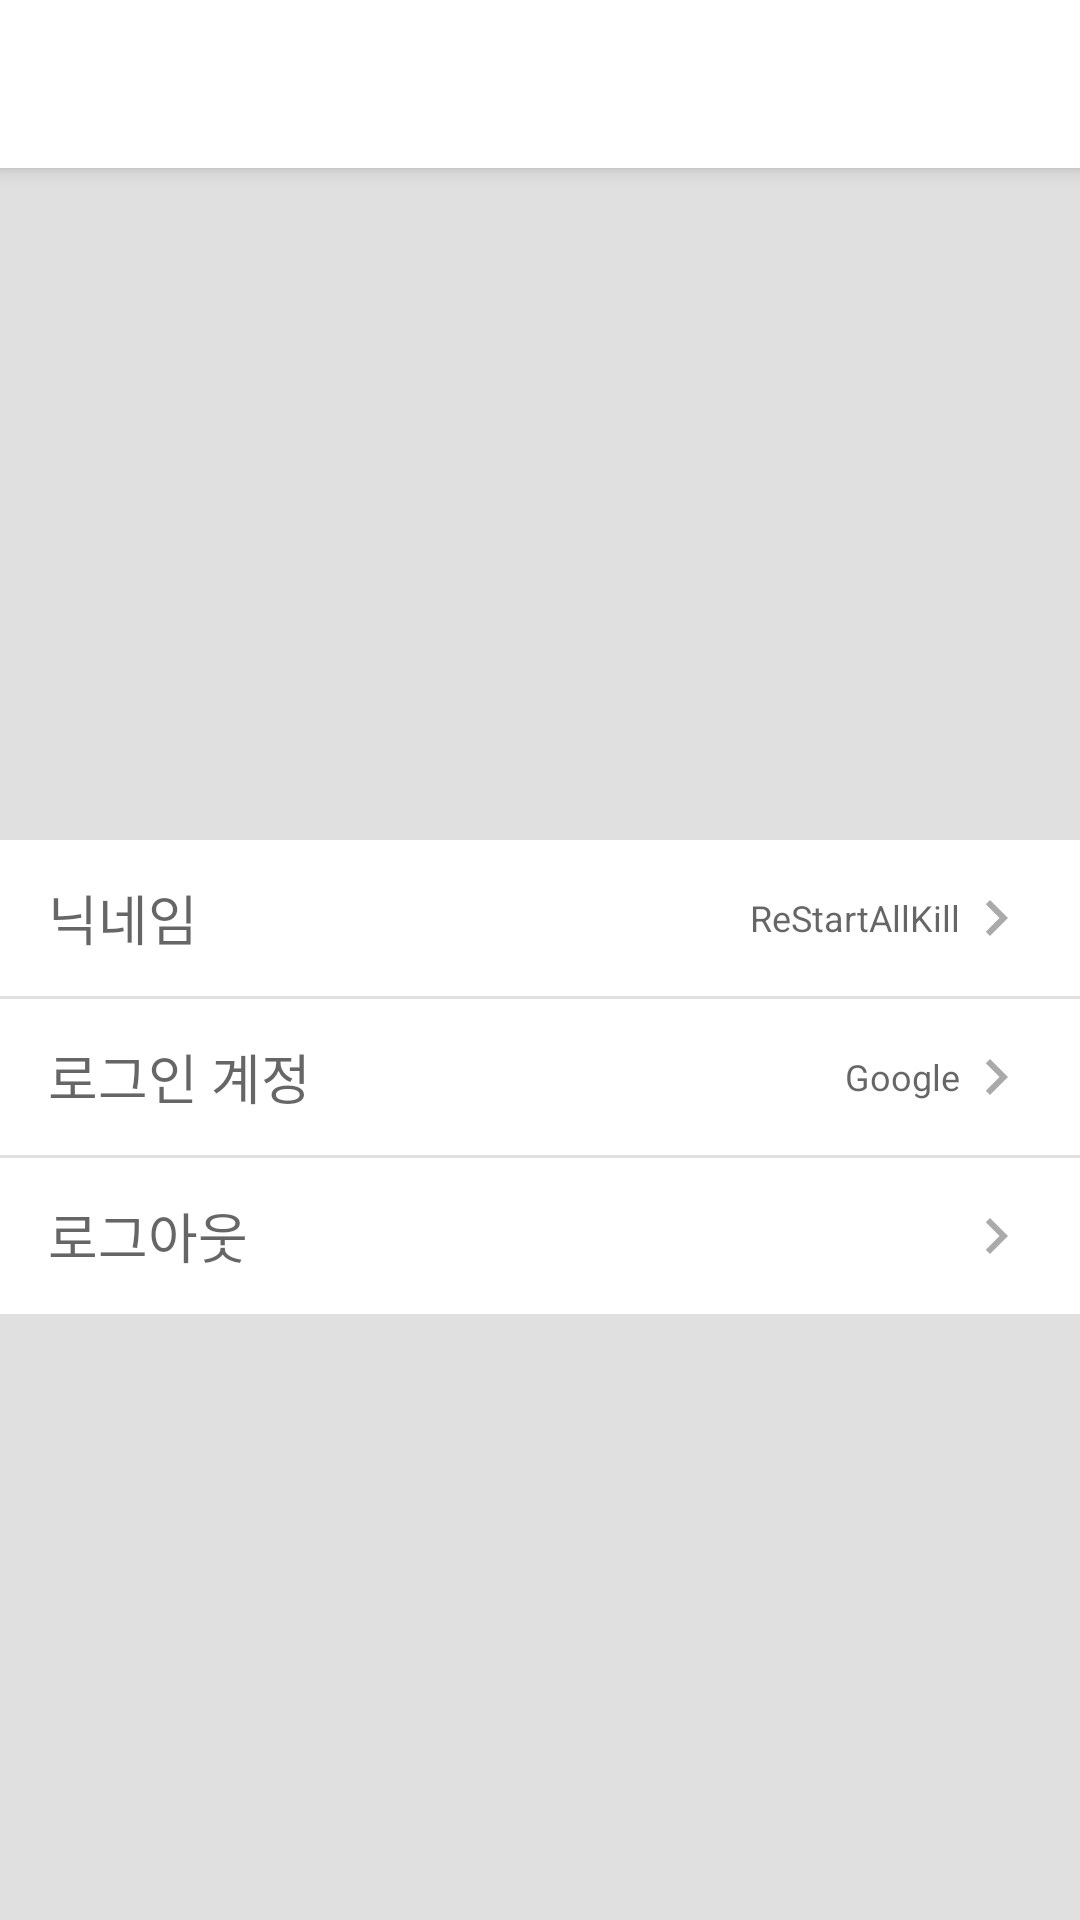

Screen size 1080×1920. Icon name, then its center in pixels as (x,y):
chevron right: (997,918), (997,1077), (997,1236)
